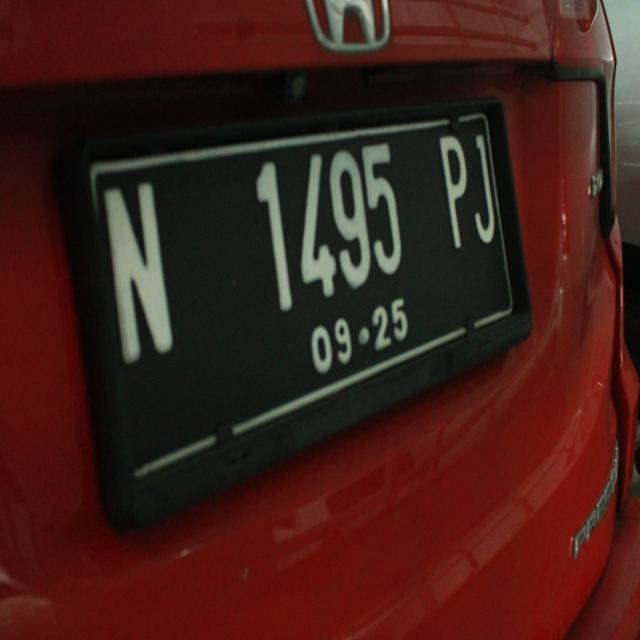1: (243, 148, 300, 314)
4: (284, 143, 342, 309)
5: (358, 133, 416, 284)
9: (322, 143, 378, 299)
J: (460, 118, 500, 246)
N: (92, 171, 182, 359)
P: (436, 124, 474, 258)
